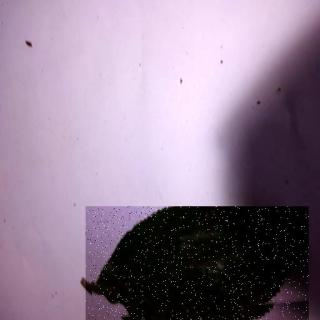Bird Eye Spot: (87, 207, 310, 320)
